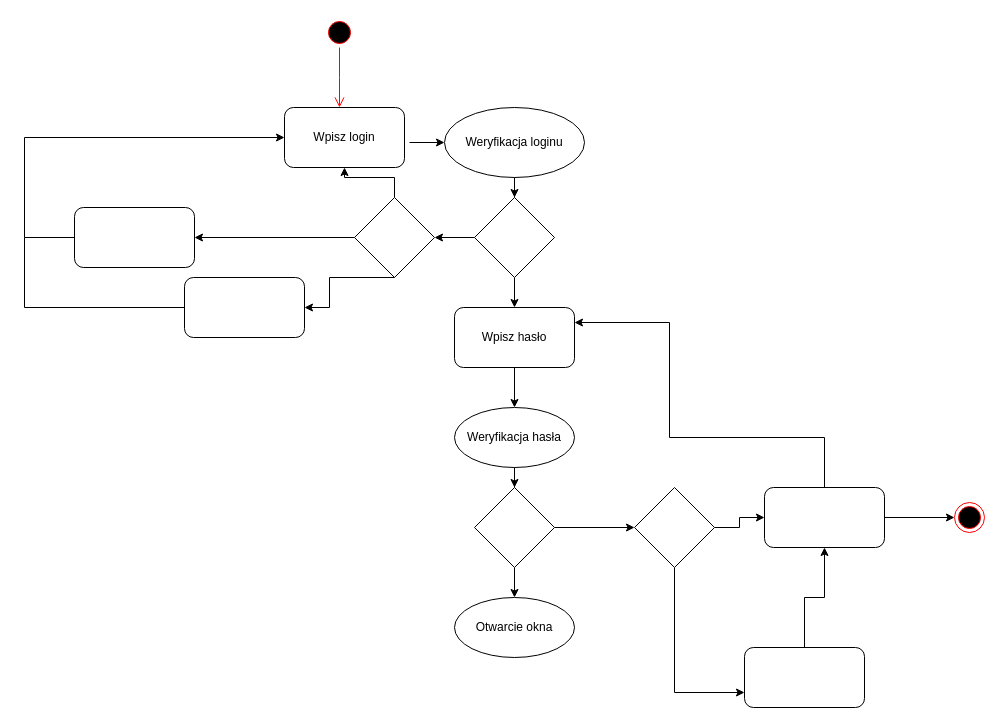
Image size: 1002x725. Some labels were removed from this diagram. The centre of each missing label's shape, as x and y in pixels:
Czy hasło się zgadza: pixel 514 527
Czy login się zgadza: pixel 514 237
